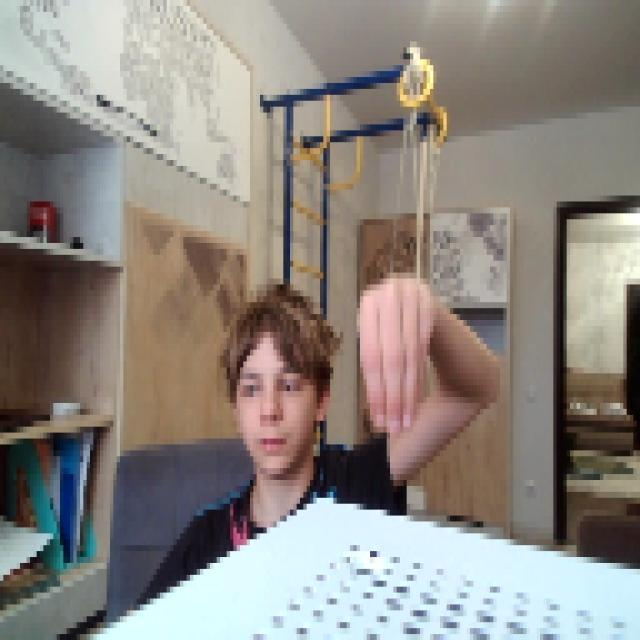left_click: (350, 266, 433, 432)
